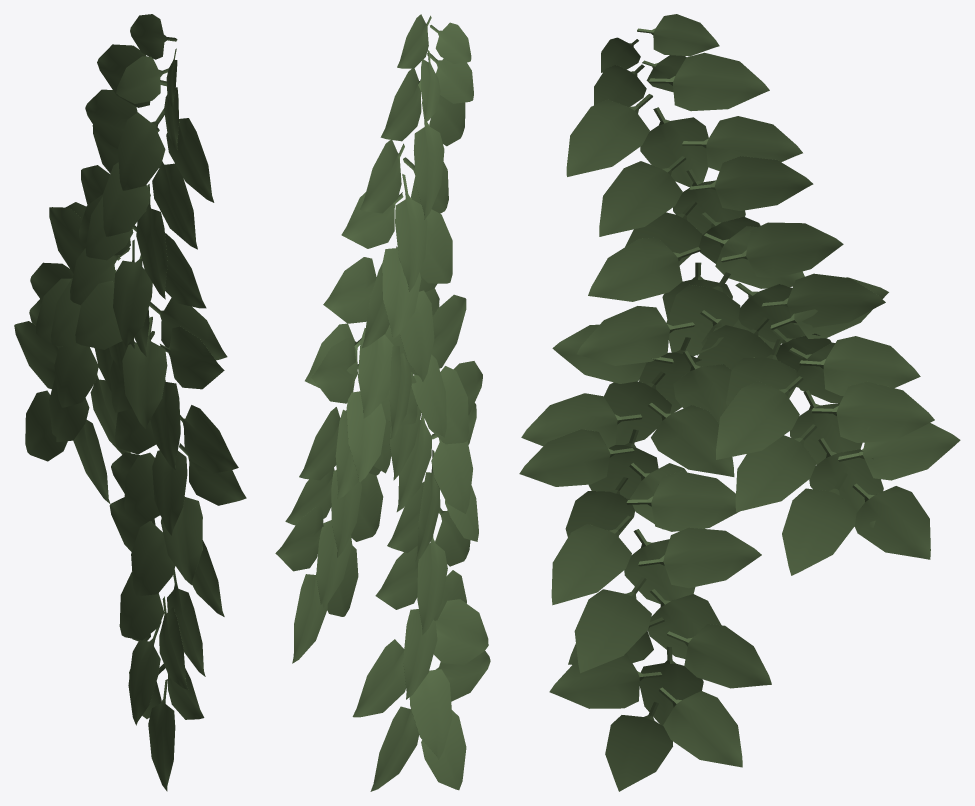
Rendered from leaves.fbx.
3 renders of one model, left to right at view 1: azimuth 30°, elevation 25°; view 2: azimuth 150°, elevation 25°; view 3: azimuth 270°, elevation 25°, orthographic. The views are drawn at different scales.
Parts seen in each view (by area): view 1: tri_cluster11, tri_cluster16, tri_cluster17, tri_cluster4, tri_cluster5, tri_cluster7, tri_cluster6, tri_cluster14, tri_cluster2, tri_cluster3, tri_cluster15, tri_cluster1 (+9 smaller); view 2: tri_cluster1, tri_cluster15, tri_cluster, tri_cluster17, tri_cluster16, tri_cluster7, tri_cluster5, tri_cluster13, tri_cluster8, tri_cluster6, tri_cluster3, tri_cluster2 (+10 smaller); view 3: tri_cluster7, tri_cluster17, tri_cluster2, tri_cluster, tri_cluster8, tri_cluster3, tri_cluster9, tri_cluster13, tri_cluster16, tri_cluster5, tri_cluster4, tri_cluster6 (+10 smaller).
Part boxes in pixels (x1,y1,x2,y2): tri_cluster11: (75, 280, 227, 428); tri_cluster16: (85, 89, 197, 249); tri_cluster17: (97, 44, 214, 202); tri_cluster4: (124, 443, 246, 584); tri_cluster5: (115, 405, 238, 535); tri_cluster7: (14, 321, 110, 504); tri_cluster6: (110, 326, 224, 469); tri_cluster14: (79, 194, 206, 346); tri_cluster2: (109, 497, 205, 676); tri_cluster3: (111, 452, 224, 616); tri_cluster15: (85, 125, 167, 299); tri_cluster1: (128, 596, 188, 725); tri_cluster1: (352, 599, 488, 759); tri_cluster15: (341, 192, 452, 339); tri_cluster: (370, 651, 490, 791); tri_cluster17: (380, 68, 465, 219); tri_cluster16: (359, 140, 448, 291); tri_cluster7: (275, 506, 358, 663); tri_cluster5: (396, 361, 482, 513); tri_cluster13: (323, 257, 418, 418); tri_cluster8: (285, 468, 383, 607); tri_cluster6: (389, 294, 468, 480); tri_cluster3: (387, 481, 470, 634); tri_cluster2: (375, 546, 466, 699); tri_cluster7: (782, 423, 960, 575); tri_cluster17: (566, 52, 769, 187); tri_cluster2: (574, 527, 761, 673); tri_cluster: (549, 653, 742, 791); tri_cluster8: (735, 381, 934, 527); tri_cluster3: (551, 471, 739, 605); tri_cluster9: (716, 336, 920, 464); tri_cluster13: (666, 222, 843, 356); tri_cluster16: (599, 116, 802, 236); tri_cluster5: (521, 393, 734, 499); tri_cluster4: (519, 429, 705, 536); tri_cluster6: (552, 324, 731, 444).
Size of the model in its own units: 2.76 by 37.09 by 18.92.
